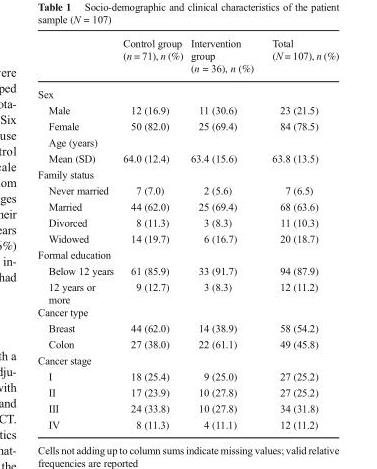table: (37, 36, 338, 429)
table column: (37, 36, 117, 429), (186, 36, 262, 429), (262, 36, 338, 429), (117, 36, 186, 429)
table column header: (37, 36, 338, 80)
table projected row header: (37, 80, 338, 101), (37, 165, 338, 182), (37, 133, 338, 149), (37, 246, 338, 262), (37, 351, 338, 367), (37, 305, 338, 319)
table row: (37, 36, 338, 80), (37, 278, 338, 305), (37, 80, 338, 101), (37, 165, 338, 182), (37, 399, 338, 416), (37, 101, 338, 117), (37, 117, 338, 133), (37, 133, 338, 149), (37, 149, 338, 165), (37, 182, 338, 198), (37, 198, 338, 214), (37, 214, 338, 230), (37, 230, 338, 246), (37, 246, 338, 262), (37, 262, 338, 278), (37, 319, 338, 335), (37, 335, 338, 351), (37, 351, 338, 367), (37, 367, 338, 383), (37, 383, 338, 399), (37, 305, 338, 319), (37, 416, 338, 429)
